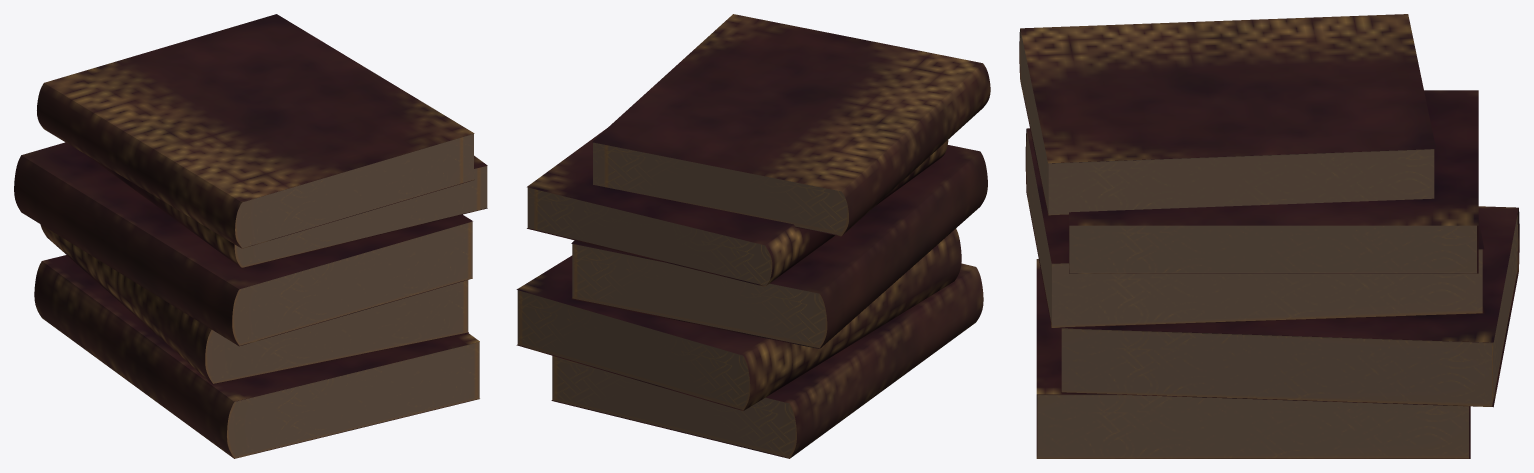
The model's file is SM_BookPile7.fbx.
3 renders of one model, left to right at view 1: azimuth 30°, elevation 25°; view 2: azimuth 150°, elevation 25°; view 3: azimuth 270°, elevation 25°, orthographic. The views are drawn at different scales.
Parts seen in each view (by area): view 1: SM_BookPile7_LOD0; view 2: SM_BookPile7_LOD0; view 3: SM_BookPile7_LOD0.
Boxes of the visible parts, x1,y1,x2,y2 form: SM_BookPile7_LOD0: (14, 14, 487, 458); SM_BookPile7_LOD0: (516, 14, 990, 458); SM_BookPile7_LOD0: (1019, 14, 1519, 458).
Size of the model in its own units: 40.5 by 50.98 by 33.21.
Materials: 1 (1 with a texture image).
